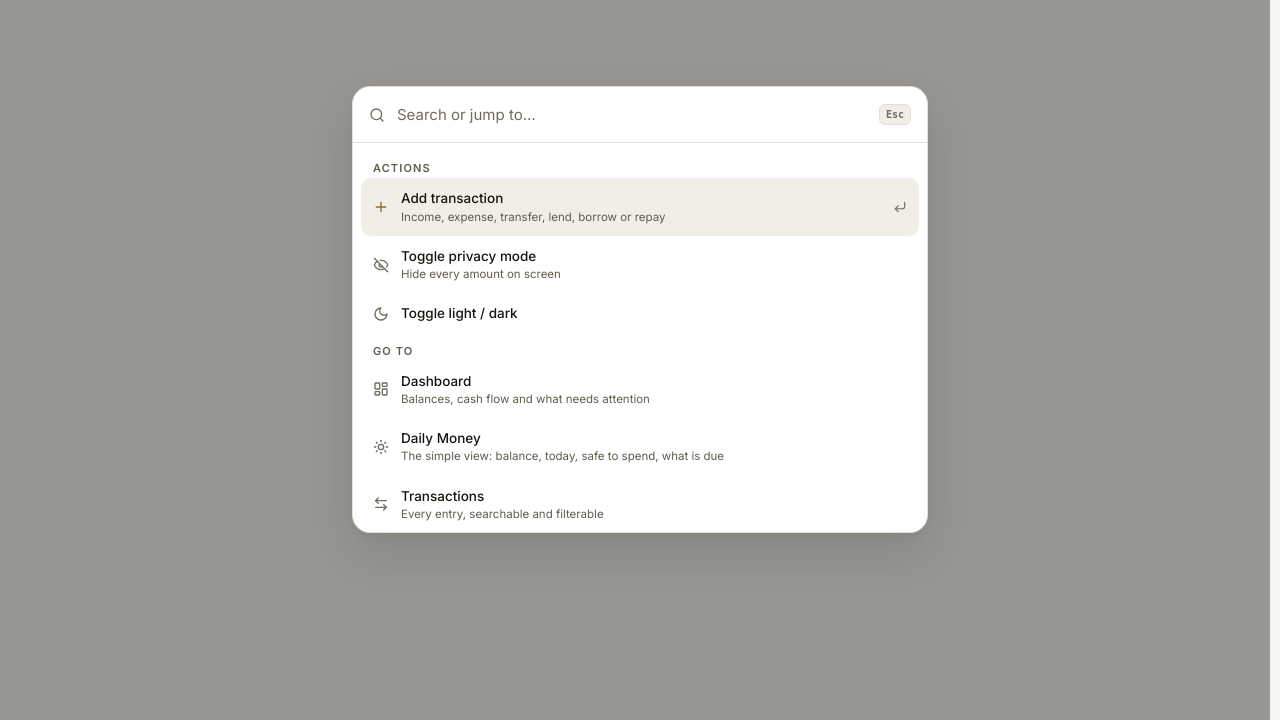
<CommandPalette> screen-reader semantics › reports no active descendant when nothing matches
Type "zzzzqqqq" into the dropdown.
click(632, 115); type("zzzzqqqq")  # box [397, 87, 867, 142]
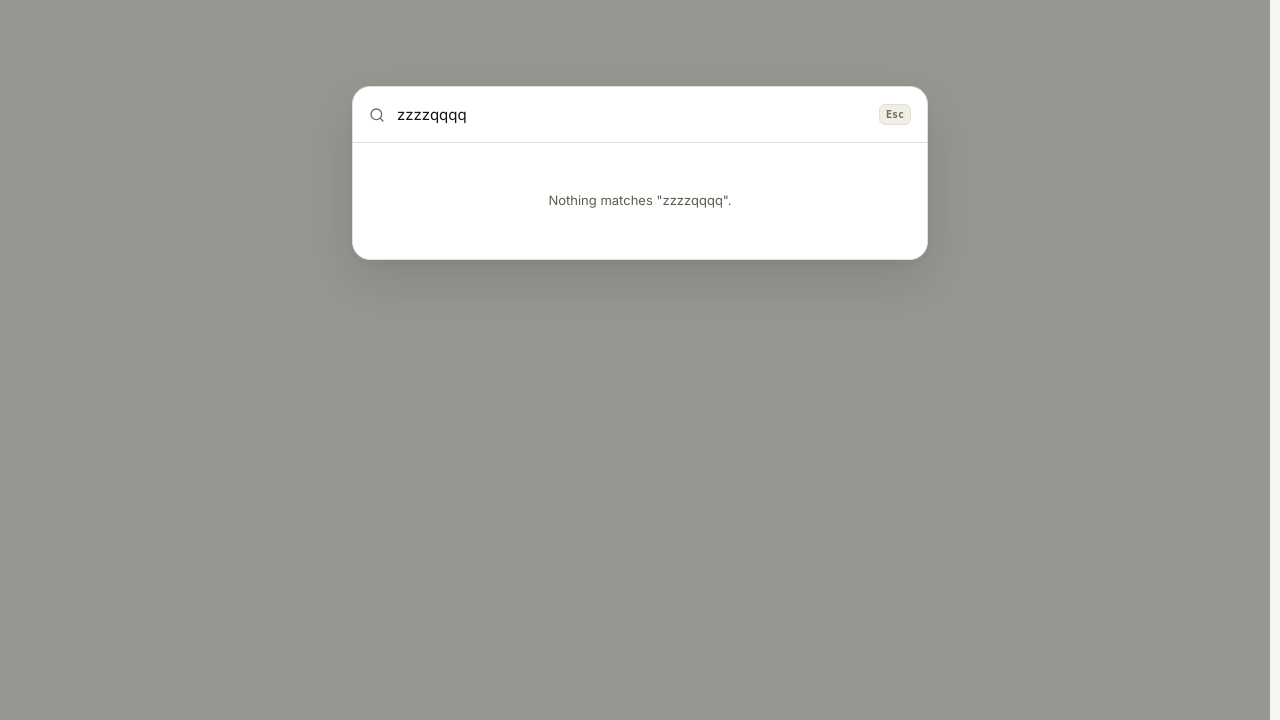
Now the dropdown is collapsed, box [397, 87, 867, 142]
